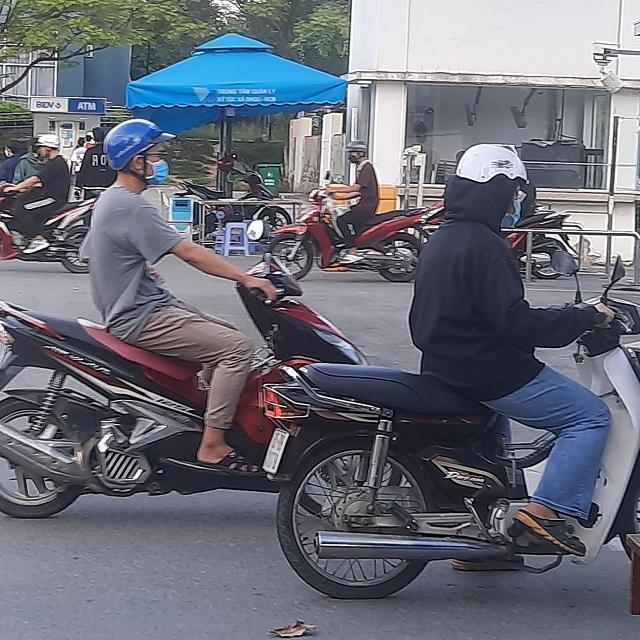Helmet: (452, 138, 528, 230), (102, 118, 176, 186), (340, 139, 368, 165)
